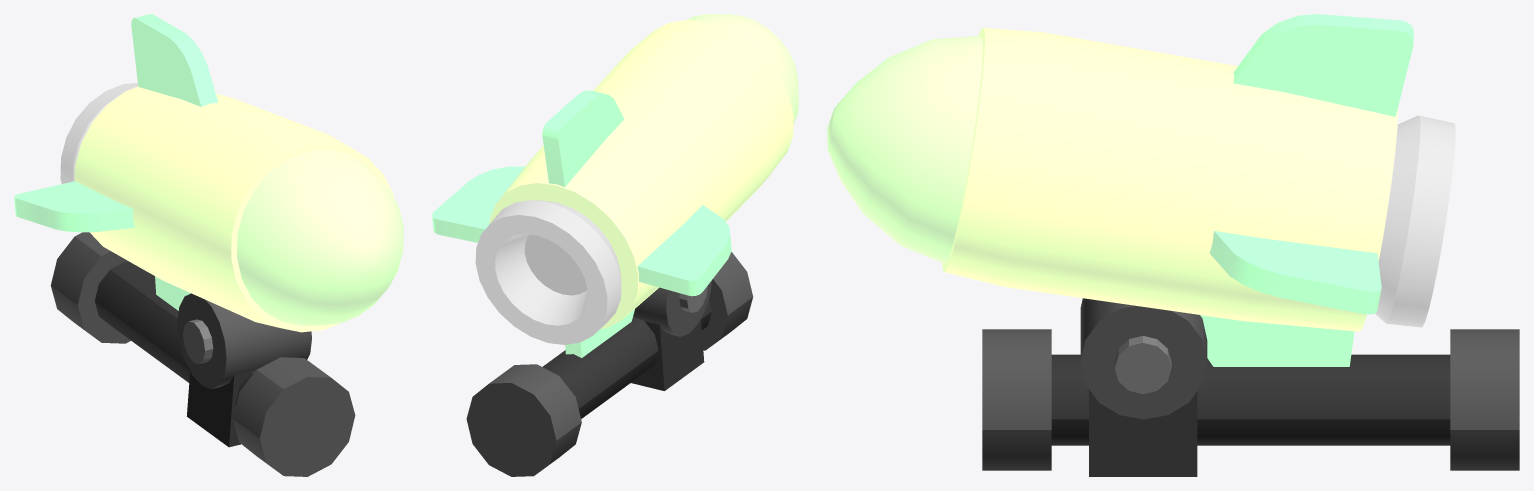
File: orange.glb
3 renders of one model, left to right at view 1: azimuth 30°, elevation 25°; view 2: azimuth 150°, elevation 25°; view 3: azimuth 270°, elevation 25°, orthographic. The views are drawn at different scales.
Visible parts, largest first — view 1: rocket, orange; view 2: rocket, orange; view 3: rocket, orange.
Part boxes in pixels (bbox=[...]): rocket: bbox=[14, 14, 403, 332]; orange: bbox=[50, 232, 355, 476]; rocket: bbox=[432, 14, 798, 357]; orange: bbox=[466, 252, 753, 476]; rocket: bbox=[827, 14, 1455, 366]; orange: bbox=[982, 298, 1519, 476].
Bounding box in the file's own units: 0.7966 × 0.9291 × 1.31.
2 materials, 2 textured.
